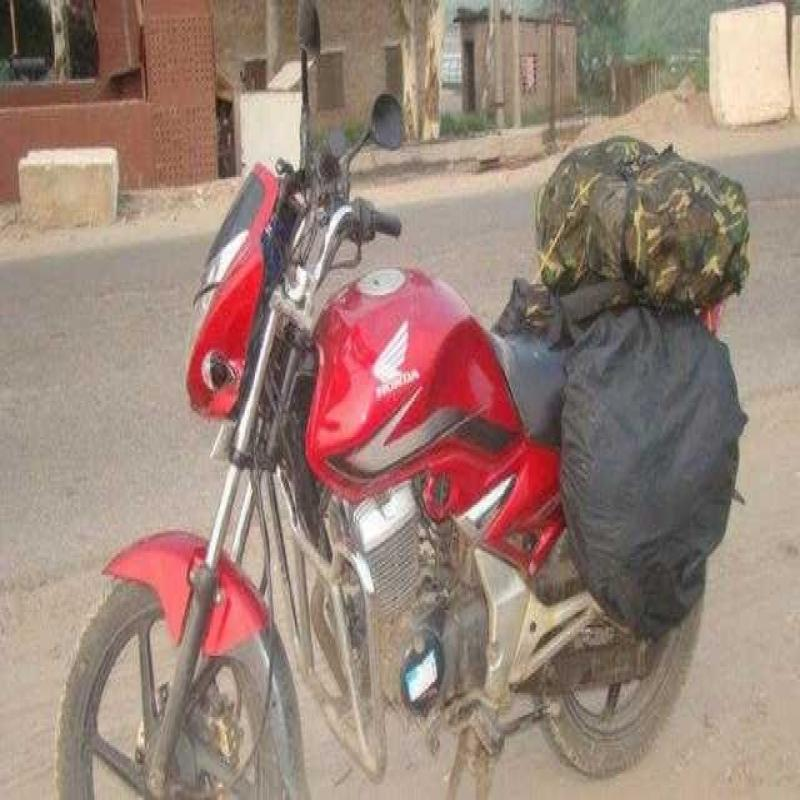bike: (65, 4, 725, 800)
